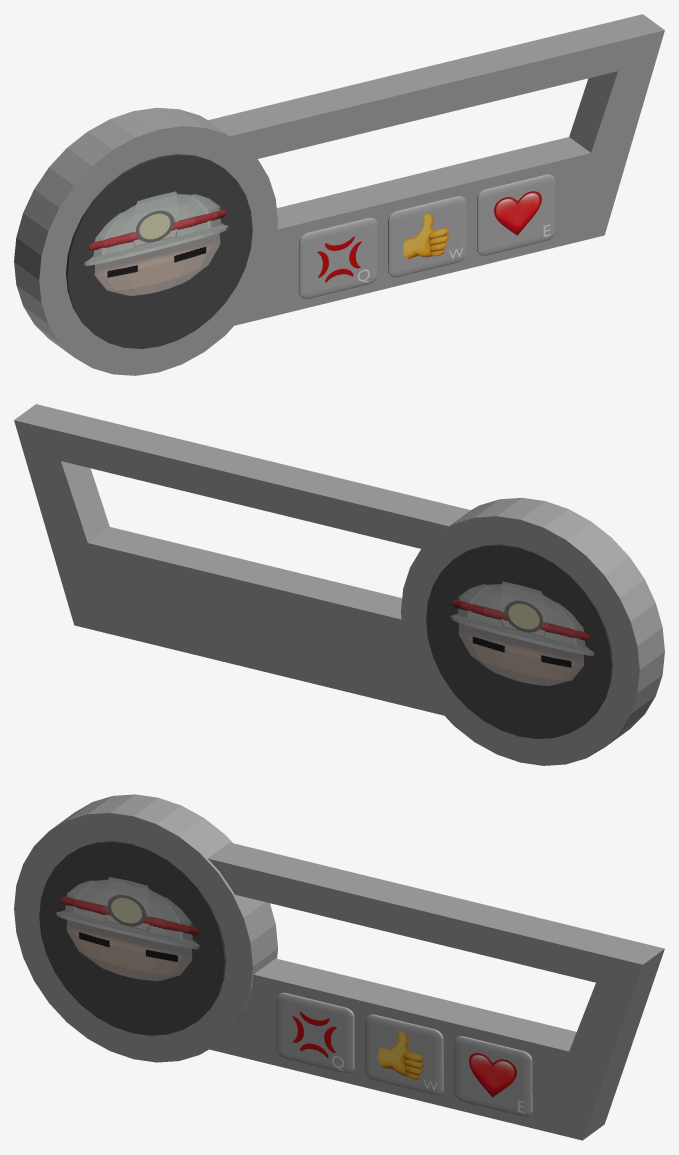
Rendered from life_bar.glb.
The picture shows the model from 3 angles, top to bottom: view 1: azimuth 30°, elevation 25°; view 2: azimuth 150°, elevation 25°; view 3: azimuth 330°, elevation 25°; orthographic projection.
Visible parts, largest first — view 1: Cube, Cylinder.001, Cylinder, Cube.005, Cube.001, Cube.004; view 2: Cube, Cylinder.001, Cylinder; view 3: Cube, Cylinder.001, Cylinder, Cube.005, Cube.001, Cube.004.
Boxes of the visible parts, left/top/right/bottom form: Cube: left=208, top=14, right=664, bottom=325; Cylinder.001: left=66, top=154, right=252, bottom=348; Cylinder: left=14, top=107, right=277, bottom=375; Cube.005: left=477, top=174, right=555, bottom=255; Cube.001: left=388, top=196, right=466, bottom=277; Cube.004: left=299, top=217, right=377, bottom=298; Cube: left=14, top=404, right=470, bottom=715; Cylinder.001: left=426, top=544, right=612, bottom=738; Cylinder: left=401, top=497, right=664, bottom=765; Cube: left=208, top=842, right=664, bottom=1140; Cylinder.001: left=39, top=841, right=225, bottom=1035; Cylinder: left=14, top=794, right=277, bottom=1062; Cube.005: left=454, top=1036, right=532, bottom=1117; Cube.001: left=365, top=1014, right=443, bottom=1095; Cube.004: left=276, top=992, right=354, bottom=1073.
Bounding box in the file's own units: 12.71 × 4.7 × 0.991.
Materials: 8 (4 with a texture image).
